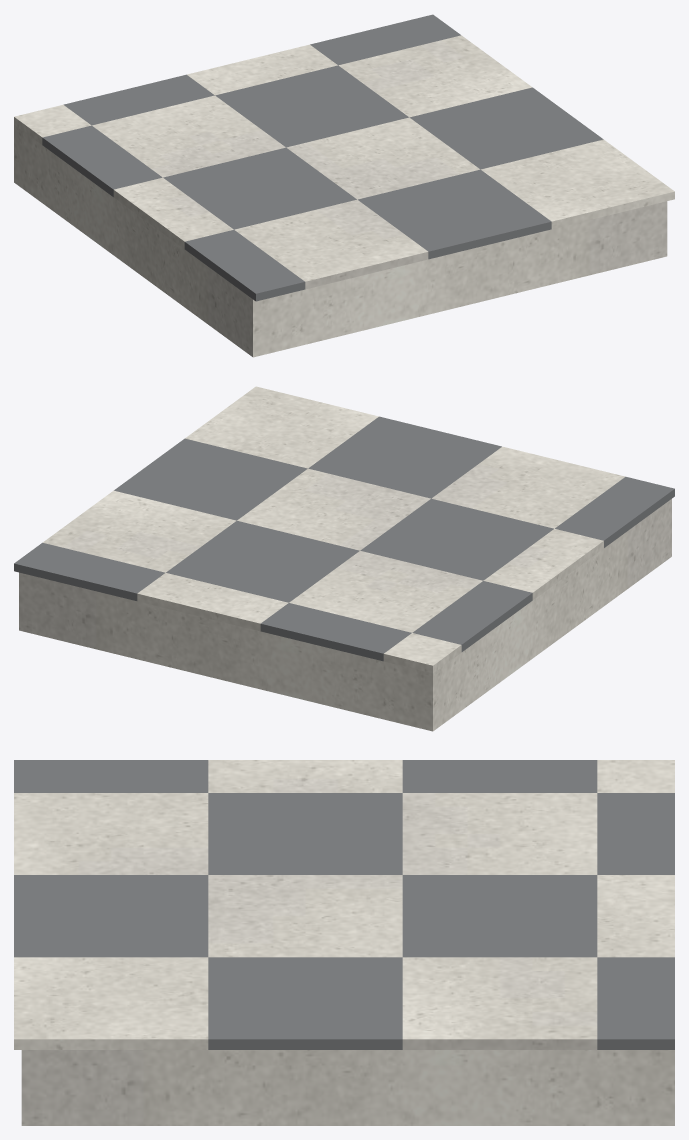
Rendered from floor_marble_u_e1010.glb.
3 views of the same model, one above another, from view 1: azimuth 30°, elevation 25°; view 2: azimuth 150°, elevation 25°; view 3: azimuth 270°, elevation 25° (orthographic). The views are drawn at different scales.
Parts seen in each view (by area): view 1: floor_marble_u_e1010_marble, floor_marble_u_e1010_slate, floor_marble_u_e1010_plaster; view 2: floor_marble_u_e1010_marble, floor_marble_u_e1010_slate, floor_marble_u_e1010_plaster; view 3: floor_marble_u_e1010_marble, floor_marble_u_e1010_slate, floor_marble_u_e1010_plaster.
Part boxes in pixels (x1,y1,x2,y2): floor_marble_u_e1010_marble: (14, 35, 674, 289); floor_marble_u_e1010_slate: (42, 14, 603, 301); floor_marble_u_e1010_plaster: (14, 124, 667, 357); floor_marble_u_e1010_marble: (43, 386, 624, 673); floor_marble_u_e1010_slate: (14, 416, 674, 661); floor_marble_u_e1010_plaster: (19, 499, 671, 731); floor_marble_u_e1010_marble: (14, 760, 674, 1049); floor_marble_u_e1010_slate: (14, 760, 674, 1049); floor_marble_u_e1010_plaster: (21, 1050, 674, 1125).
Bounding box in the file's own units: 1.7 × 0.255 × 1.7.
3 materials, 2 textured.
